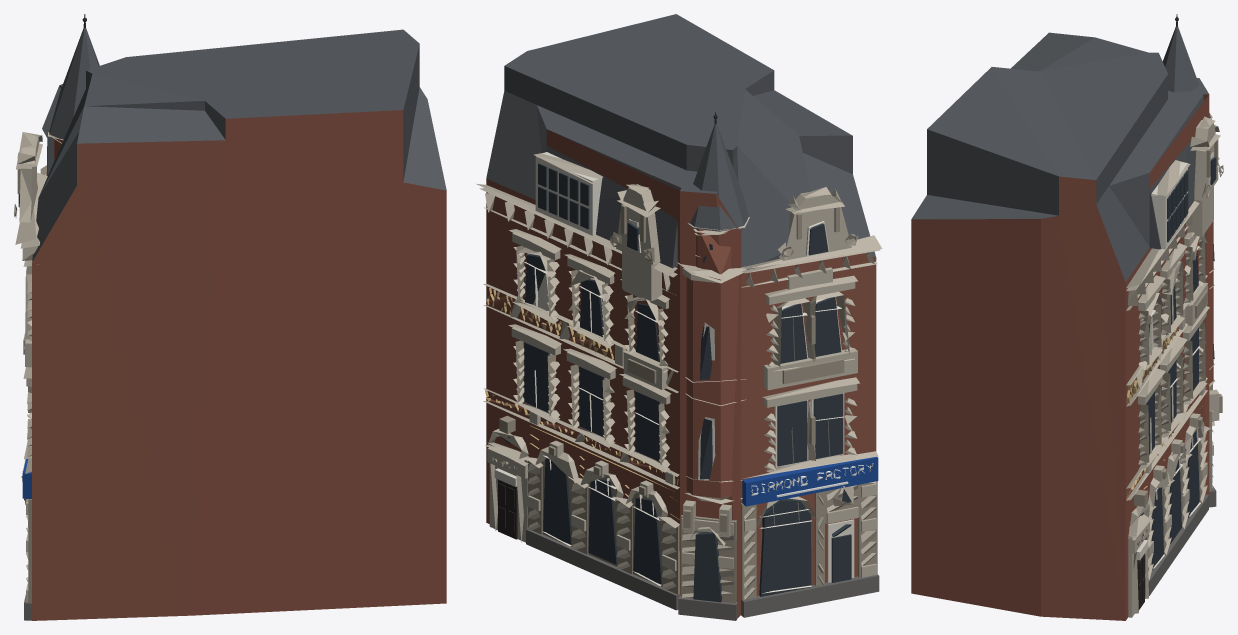
The model's file is muntplein-1.lod1.glb.
3 views of the same model, side by side, from view 1: azimuth 30°, elevation 25°; view 2: azimuth 150°, elevation 25°; view 3: azimuth 270°, elevation 25° (orthographic). The views are drawn at different scales.
Parts seen in each view (by area): view 1: muntplein-1; view 2: muntplein-1; view 3: muntplein-1.
Boxes of the visible parts, <box> form: muntplein-1: <box>14,14,446,620</box>; muntplein-1: <box>476,14,882,620</box>; muntplein-1: <box>911,14,1223,620</box>.
Size of the model in its own units: 14.36 by 18.05 by 10.56.
